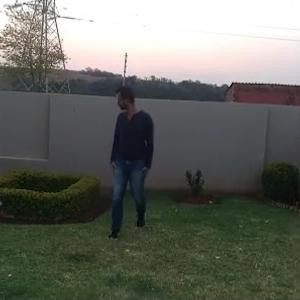follow: (107, 82, 154, 246)
